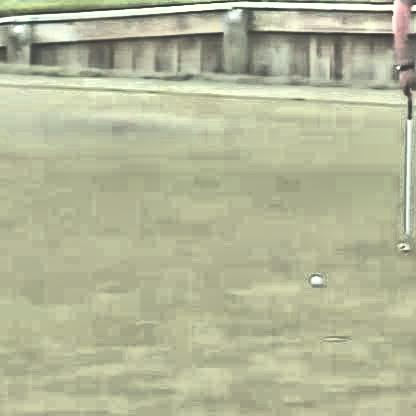golfball: (306, 273, 322, 286)
